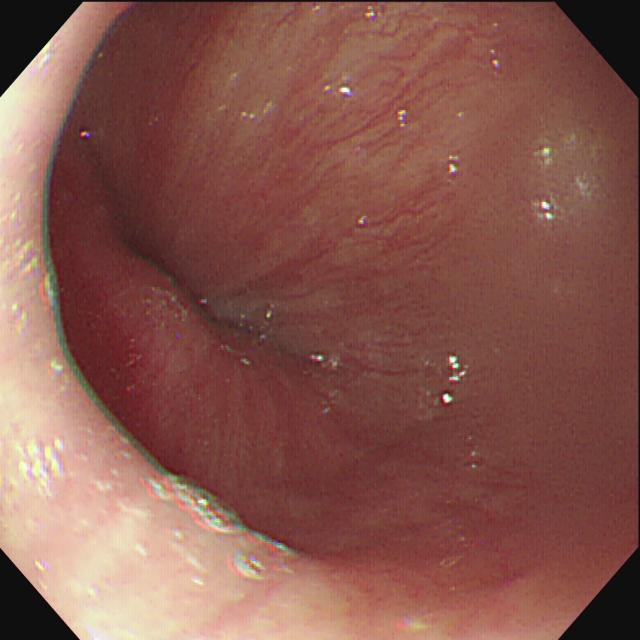T: (144, 468, 263, 583)
U: (13, 435, 66, 500), (439, 353, 469, 404), (306, 353, 339, 371), (324, 83, 354, 99), (393, 109, 411, 130), (445, 152, 463, 173), (539, 199, 556, 220)
